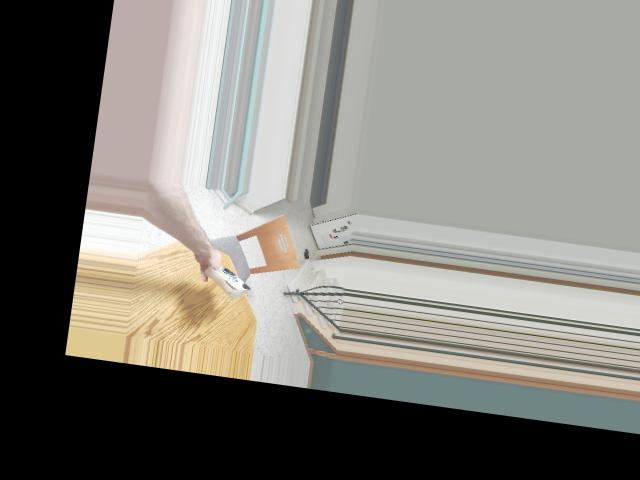cheese: (200, 260, 254, 301)
